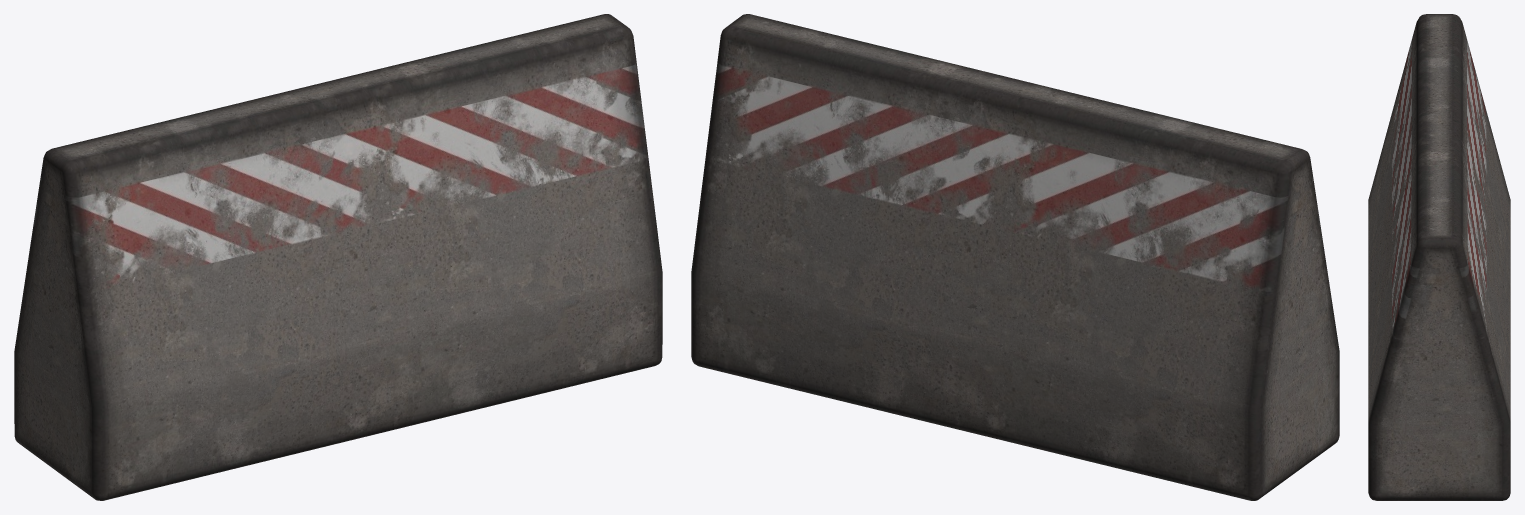
File: concrete_barrier.glb
3 renders of one model, left to right at view 1: azimuth 30°, elevation 25°; view 2: azimuth 150°, elevation 25°; view 3: azimuth 270°, elevation 25°, orthographic. The views are drawn at different scales.
Visible parts, largest first — view 1: defaultMaterial; view 2: defaultMaterial; view 3: defaultMaterial.
Boxes of the visible parts, bbox=[...] form: defaultMaterial: bbox=[14, 14, 662, 500]; defaultMaterial: bbox=[691, 14, 1339, 500]; defaultMaterial: bbox=[1368, 14, 1510, 500].
Size of the model in its own units: 200 by 106 by 52.35.
Materials: 1 (1 with a texture image).
